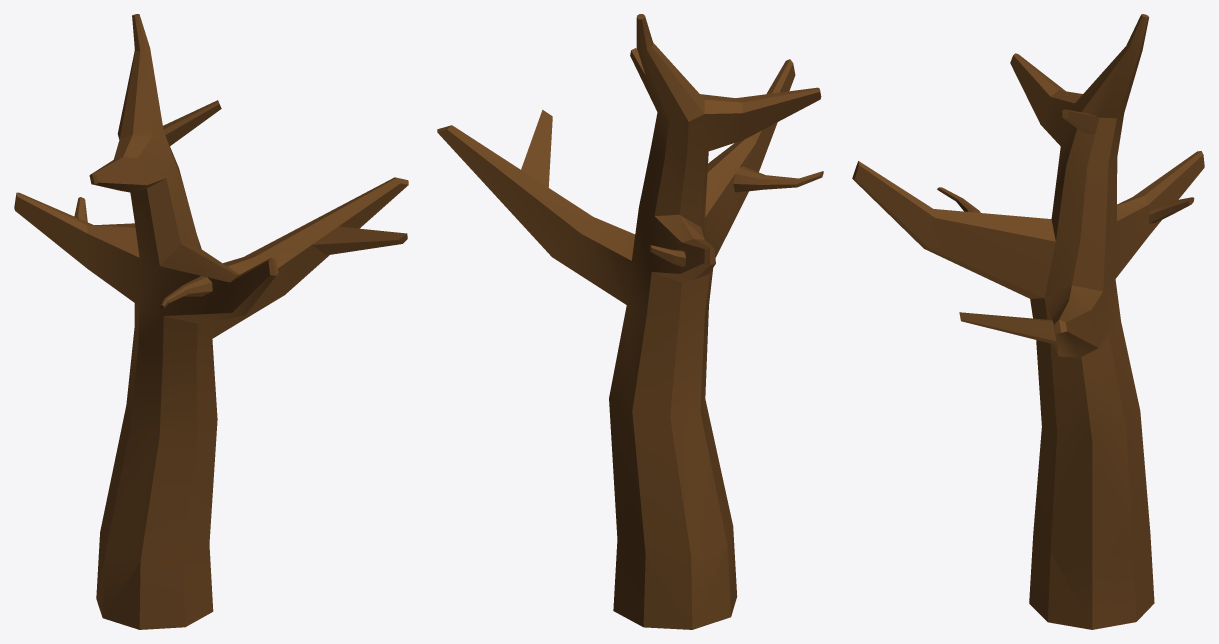
File: Vegetation_Tree_Trunk_01.fbx
3 renders of one model, left to right at view 1: azimuth 30°, elevation 25°; view 2: azimuth 150°, elevation 25°; view 3: azimuth 270°, elevation 25°, orthographic. The views are drawn at different scales.
Visible parts, largest first — view 1: Vegetation_Tree_Trunk_01; view 2: Vegetation_Tree_Trunk_01; view 3: Vegetation_Tree_Trunk_01.
Part boxes in pixels (x1,y1,x2,y2): Vegetation_Tree_Trunk_01: (14,14,408,629); Vegetation_Tree_Trunk_01: (437,14,823,629); Vegetation_Tree_Trunk_01: (852,14,1204,629).
Bounding box in the file's own units: 119 × 191 × 103.
